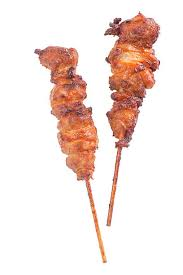Sate ayam: (27, 41, 111, 266), (102, 5, 166, 231)
